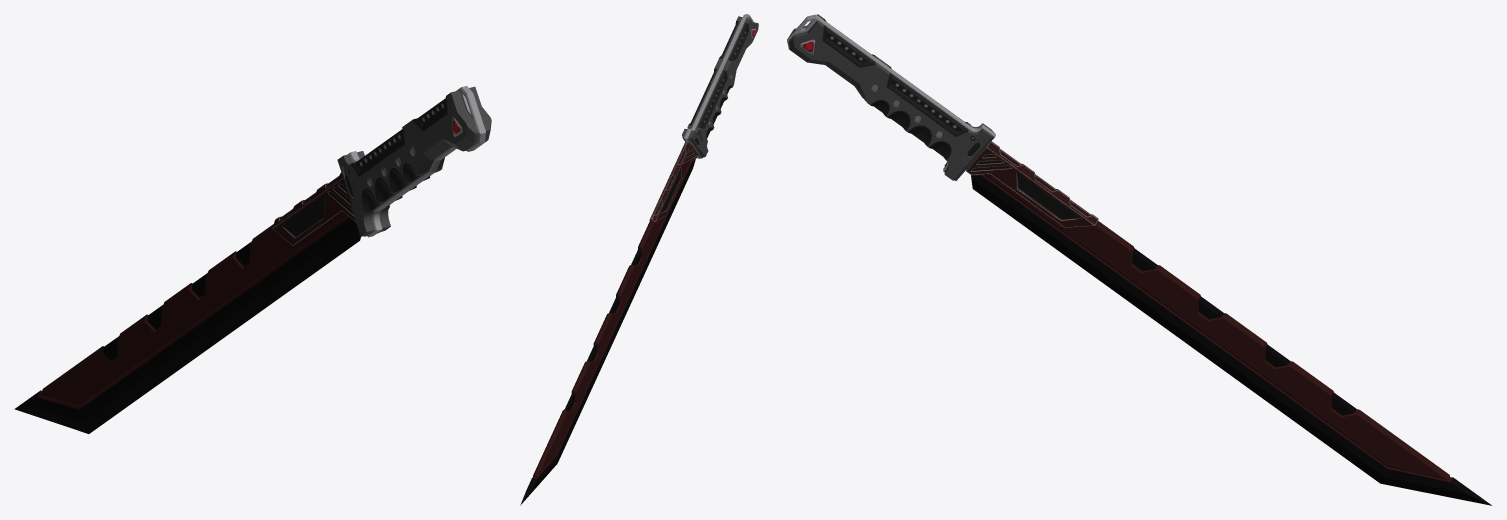
File: SM_Blade.gltf
3 renders of one model, left to right at view 1: azimuth 30°, elevation 25°; view 2: azimuth 150°, elevation 25°; view 3: azimuth 270°, elevation 25°, orthographic. The views are drawn at different scales.
Visible parts, largest first — view 1: SM_Blade; view 2: SM_Blade; view 3: SM_Blade.
Part boxes in pixels (x1,y1,x2,y2): SM_Blade: (14, 86, 491, 433); SM_Blade: (520, 14, 758, 505); SM_Blade: (787, 14, 1492, 505).
Bounding box in the file's own units: 0.0239 × 0.556 × 0.7249.
1 material, 1 textured.
